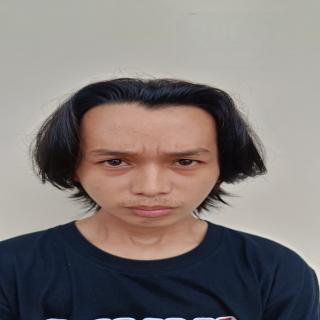Marah: (68, 97, 244, 234)
